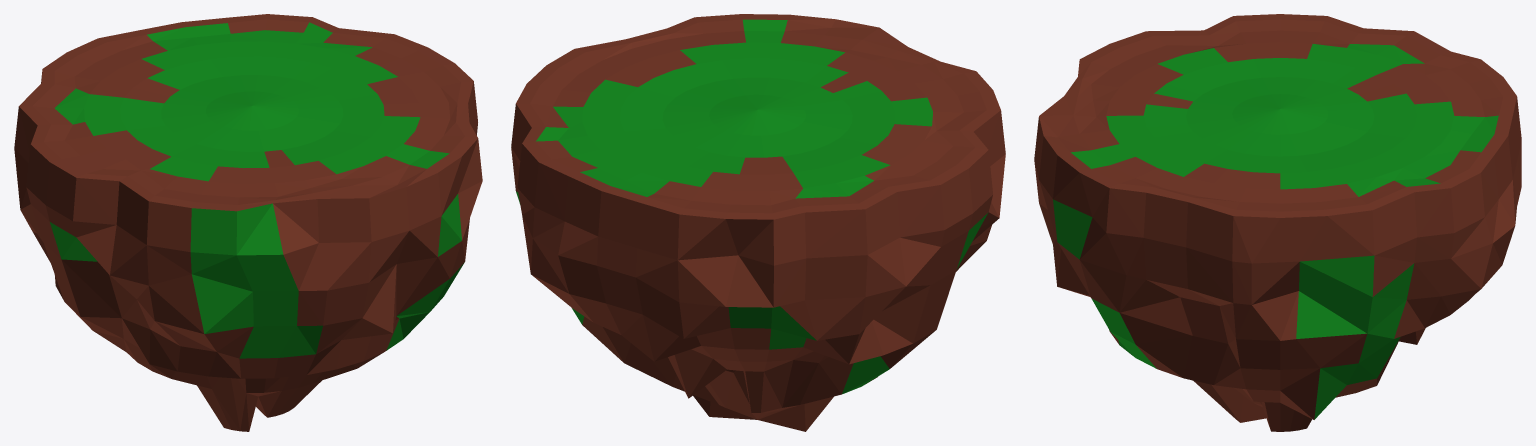
Rendered from soilbox.dae.
3 renders of one model, left to right at view 1: azimuth 30°, elevation 25°; view 2: azimuth 150°, elevation 25°; view 3: azimuth 270°, elevation 25°, orthographic. The views are drawn at different scales.
Parts seen in each view (by area): view 1: Sphere; view 2: Sphere; view 3: Sphere.
Boxes of the visible parts, box(x1,y1,x2,y2) form: Sphere: box(14, 14, 482, 431); Sphere: box(511, 14, 1005, 431); Sphere: box(1034, 14, 1521, 431).
Size of the model in its own units: 2 by 1.98 by 1.42.
